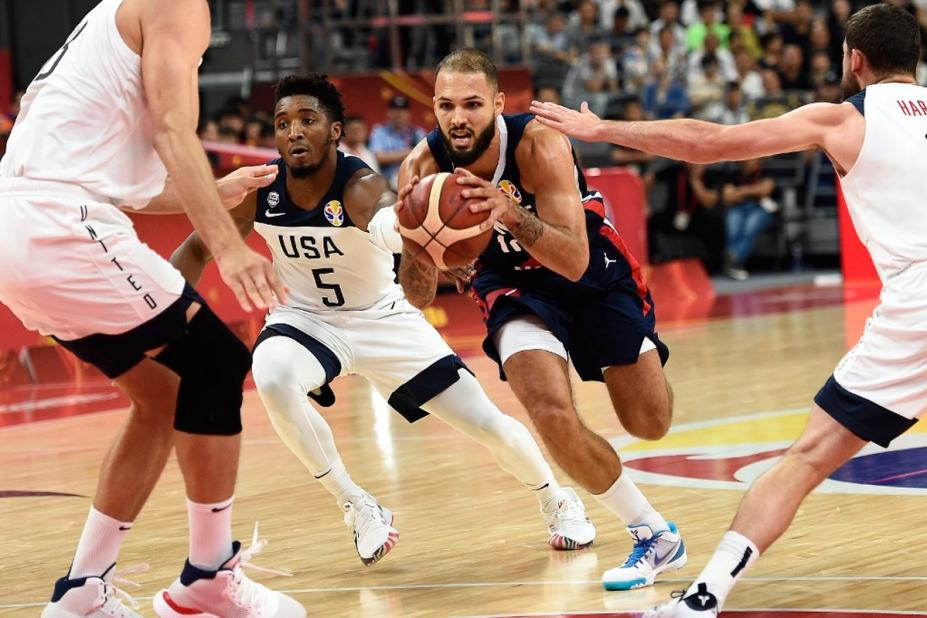basketball: (398, 173, 497, 267)
